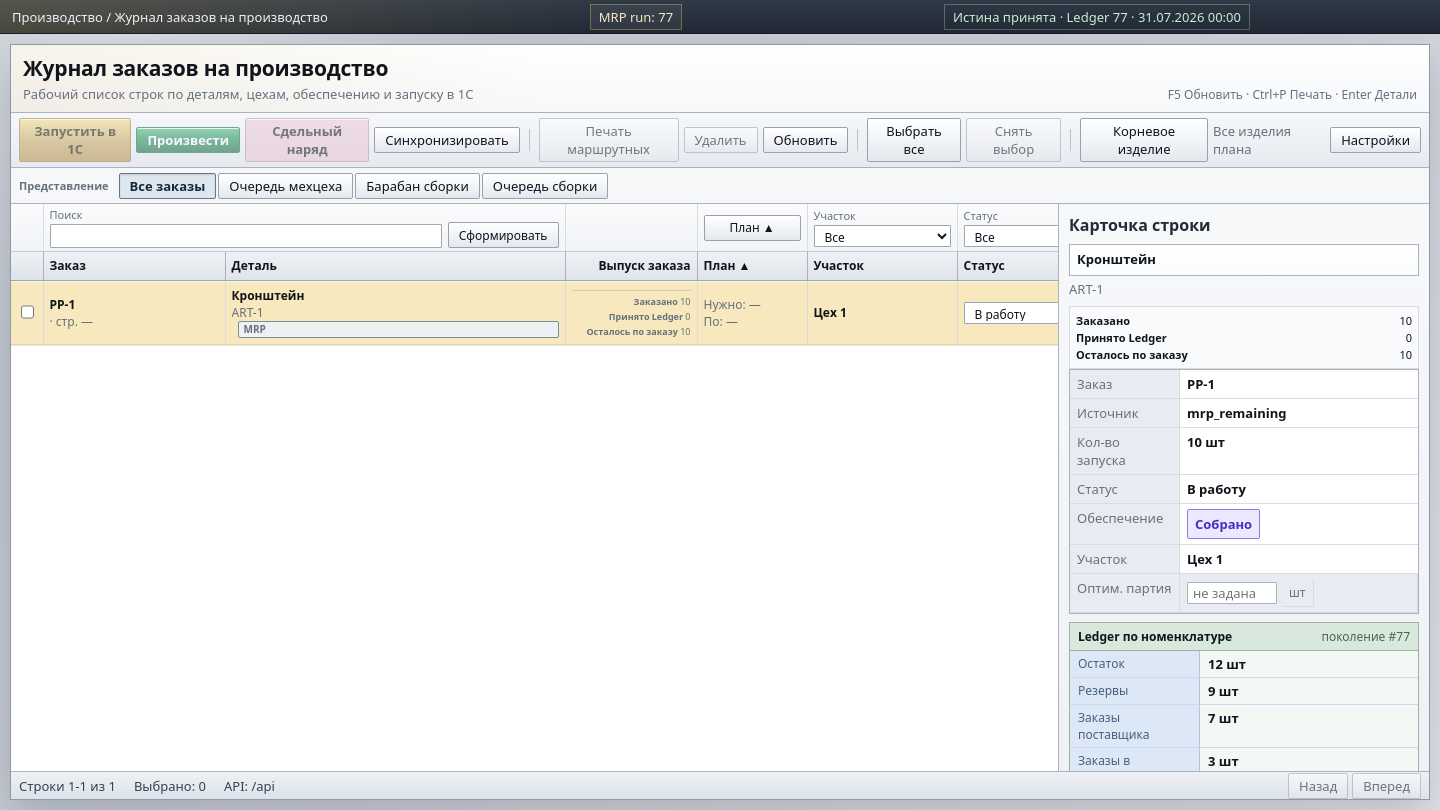
Scenario: ProductionControlPage — characterization › prints with the publication revision returned after 1C export
Check: the text "MRP run: 77" is shown, box [590, 4, 682, 30]
Click the checkbox at {"x": 28, "y": 312}, box [21, 300, 34, 324]
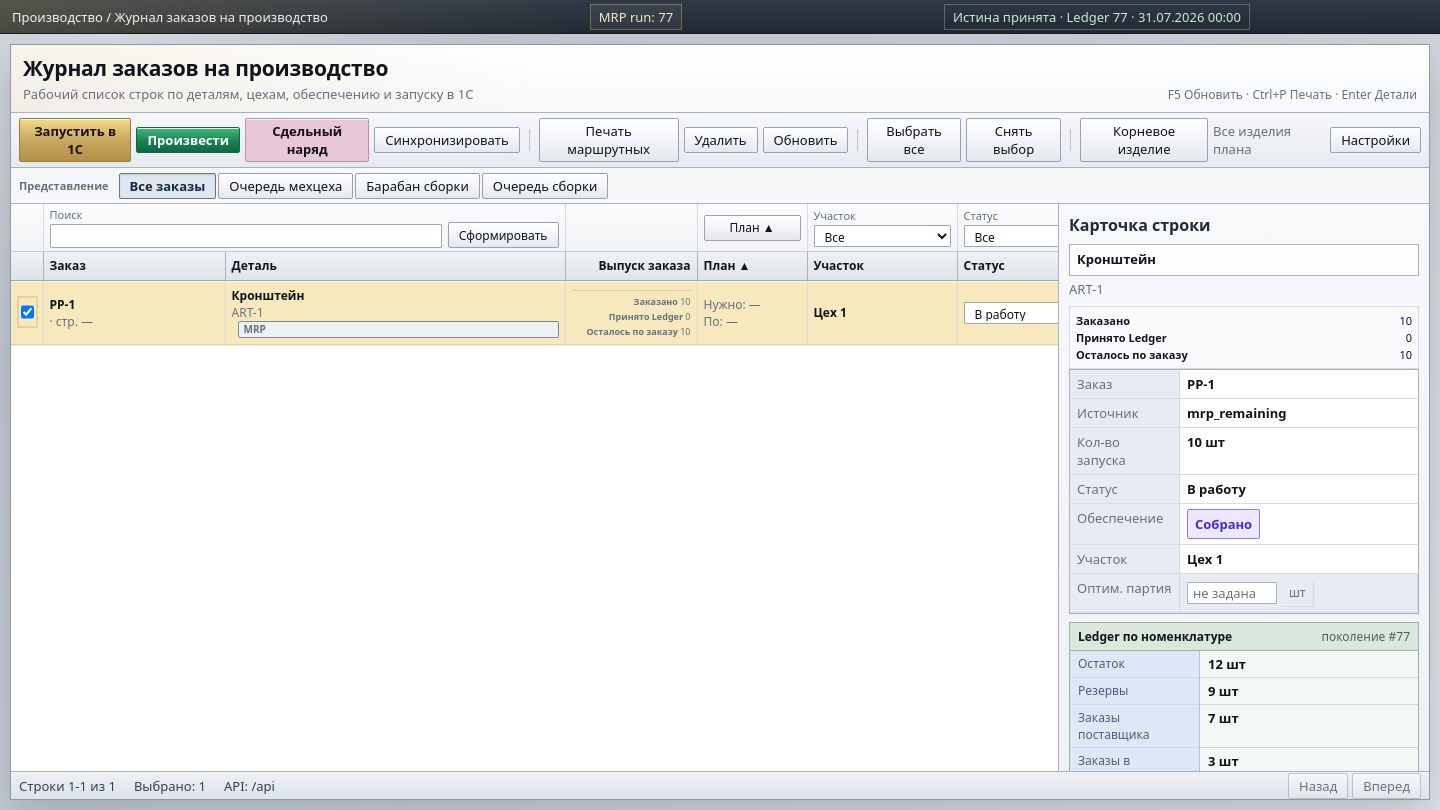
Click the button "Запустить в 1С" at {"x": 75, "y": 140}, box [19, 118, 131, 162]
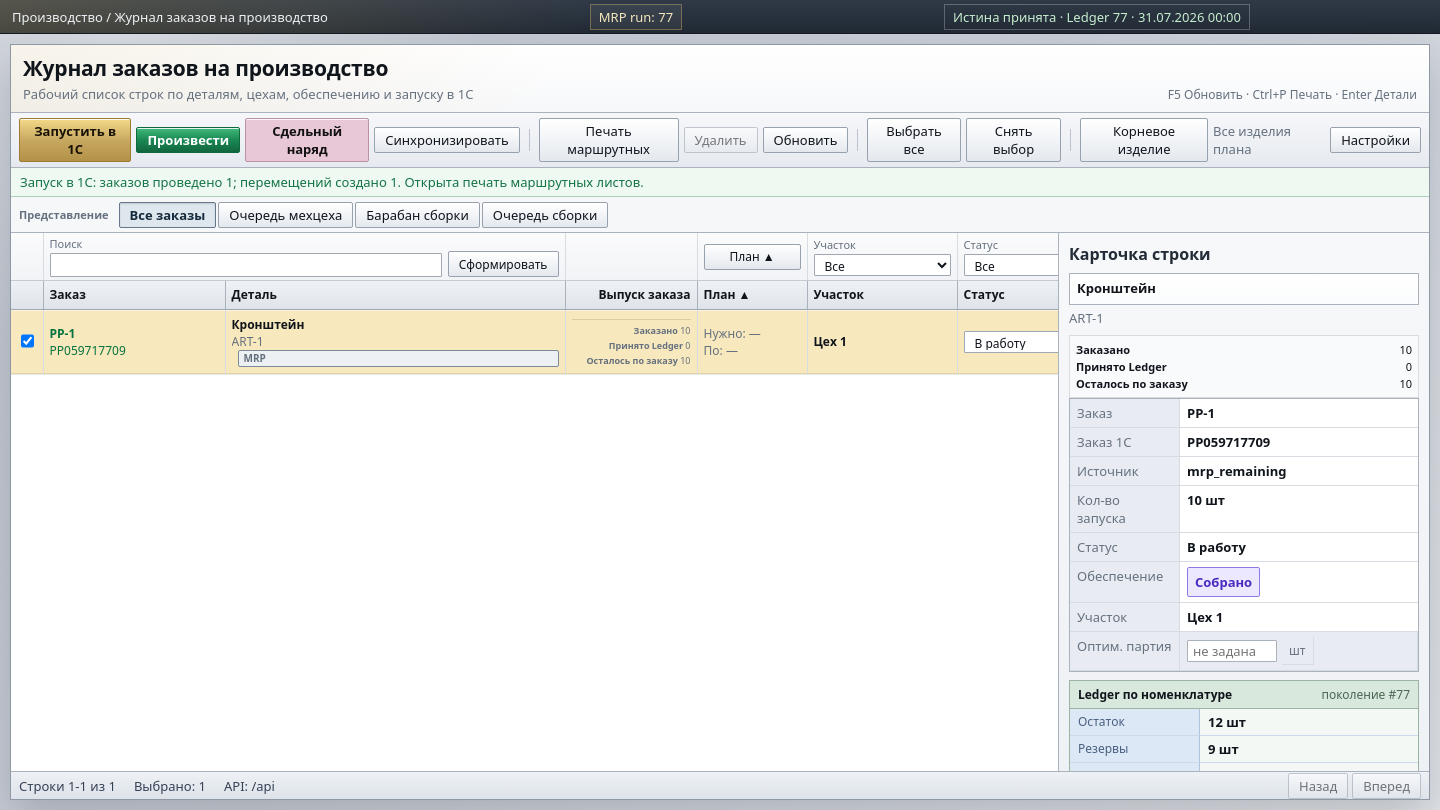
Check: the text "PP059717709" in the row of "По:" is shown, box [50, 342, 126, 358]
